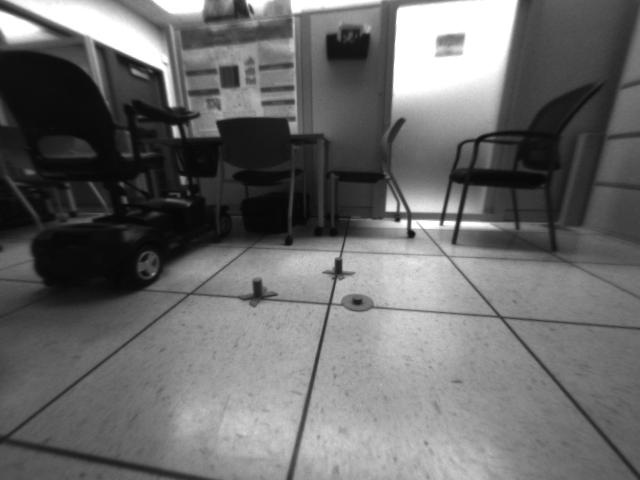X: (236, 276, 276, 305), (323, 258, 355, 278)
